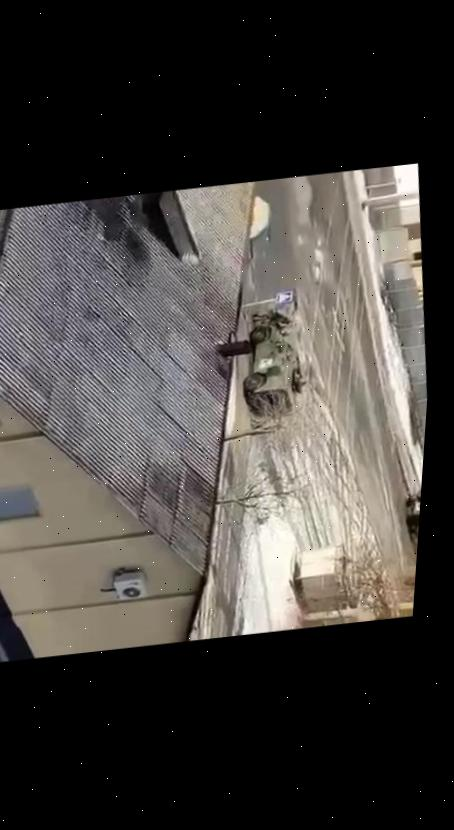armored_car: (236, 319, 314, 420), (400, 487, 421, 558)
